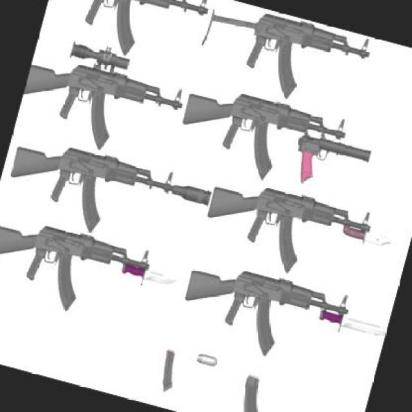Gun: (172, 256, 392, 386), (0, 128, 213, 256), (171, 81, 375, 207), (0, 209, 182, 343), (199, 176, 397, 295), (189, 0, 374, 119), (15, 39, 188, 166), (40, 0, 208, 70)
